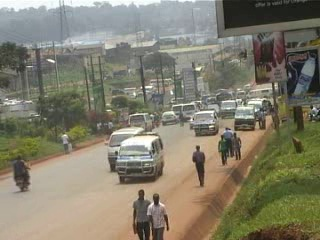Car: (159, 110, 179, 128), (188, 111, 197, 130)
Motorcycle: (10, 153, 35, 195), (150, 108, 162, 127)
